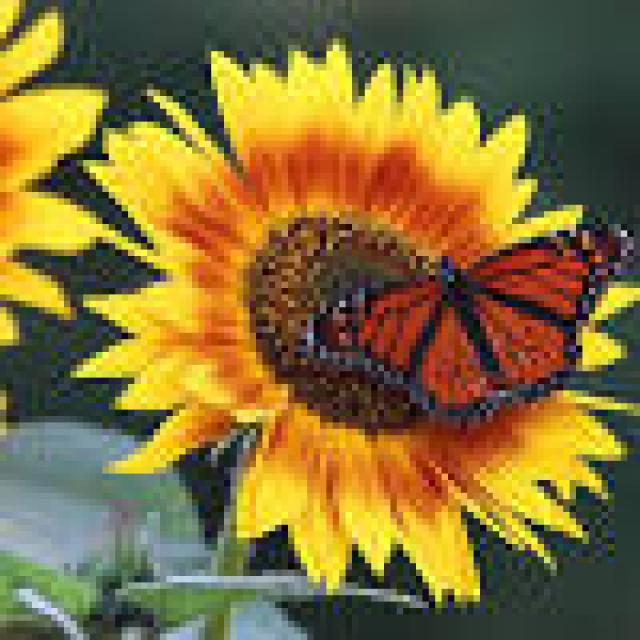sunflower: (93, 32, 630, 608)
